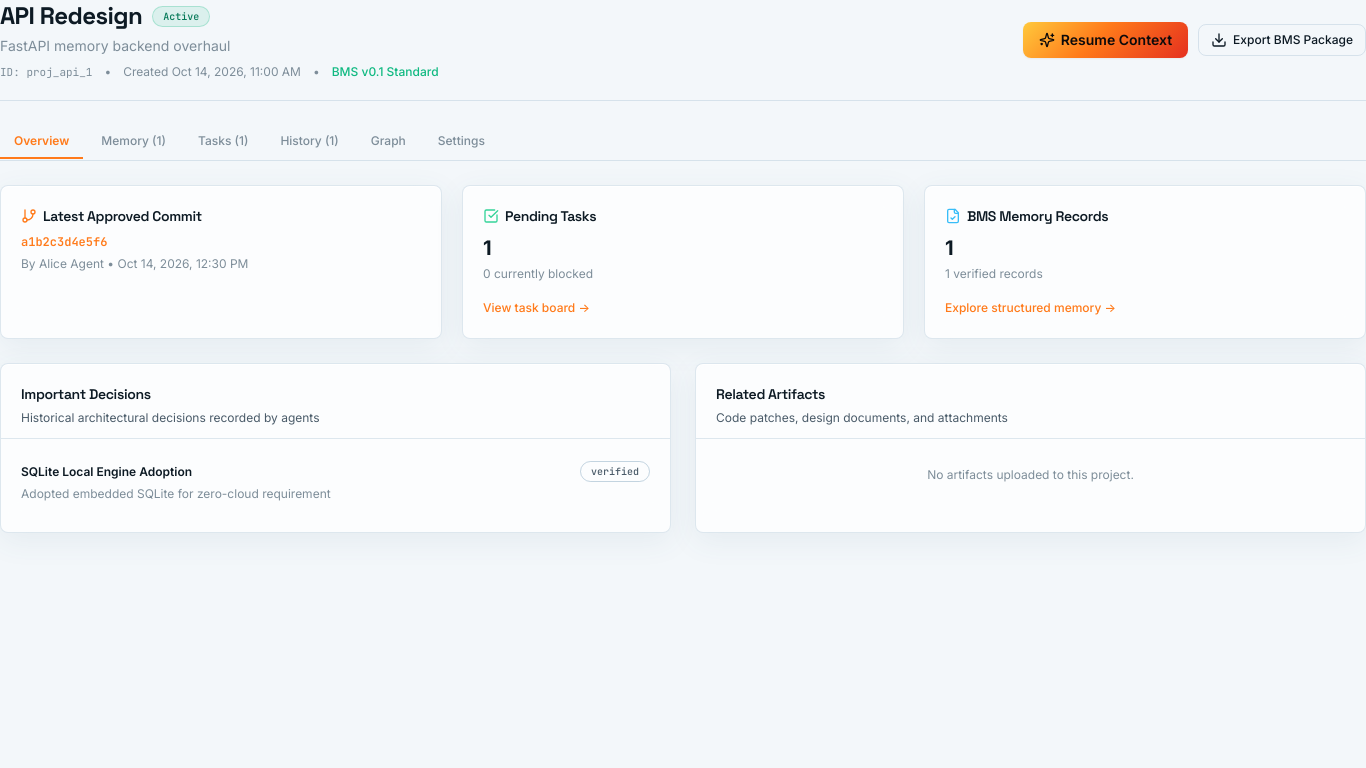
BARSA Web Dashboard Comprehensive Test Suite › 15 & 16. generates and displays context resume package from Smart Context Engine
The image size is (1366, 768).
Click the button "Resume Context" at (1106, 40), box x1=1023 y1=22 x2=1188 y2=58
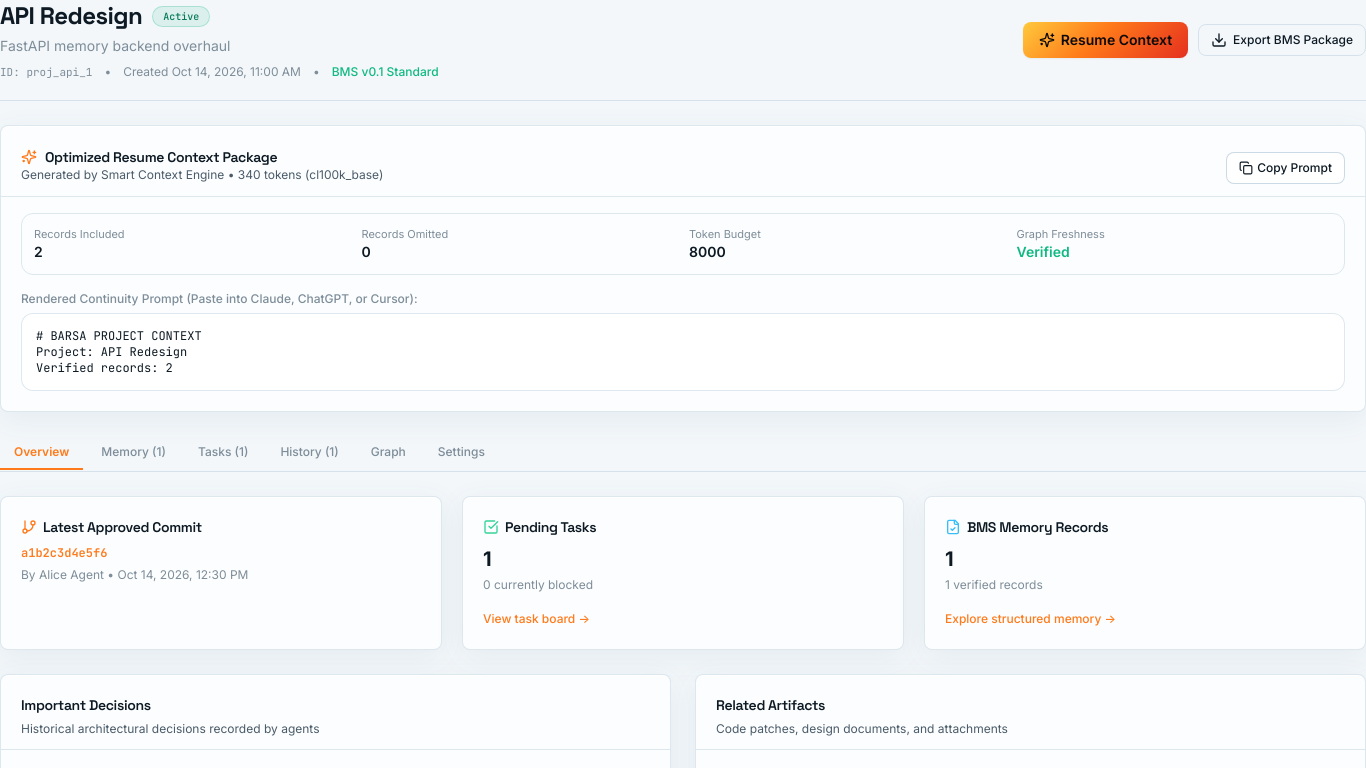
Result: the heading "Optimized Resume Context Package" is shown at x1=21 y1=148 x2=277 y2=166
Result: the text "Generated by Smart Context Engine • 340 tokens (cl100k_base)" is shown at x1=21 y1=167 x2=383 y2=183
